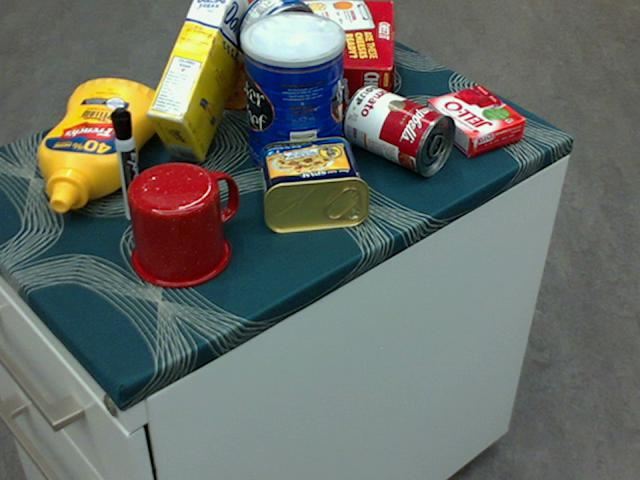cracker_box: (199, 0, 392, 115)
gelatin_box: (424, 86, 524, 155)
large_marker: (109, 107, 145, 220)
master_chef_can: (240, 11, 345, 180)
mug: (127, 160, 239, 287)
mustard_bottle: (37, 79, 161, 212)
potted_meat_can: (256, 134, 369, 234)
sugar_box: (146, 0, 255, 163)
tomato_soup_can: (342, 84, 456, 176)
tuna_fish_can: (235, 0, 317, 71)
